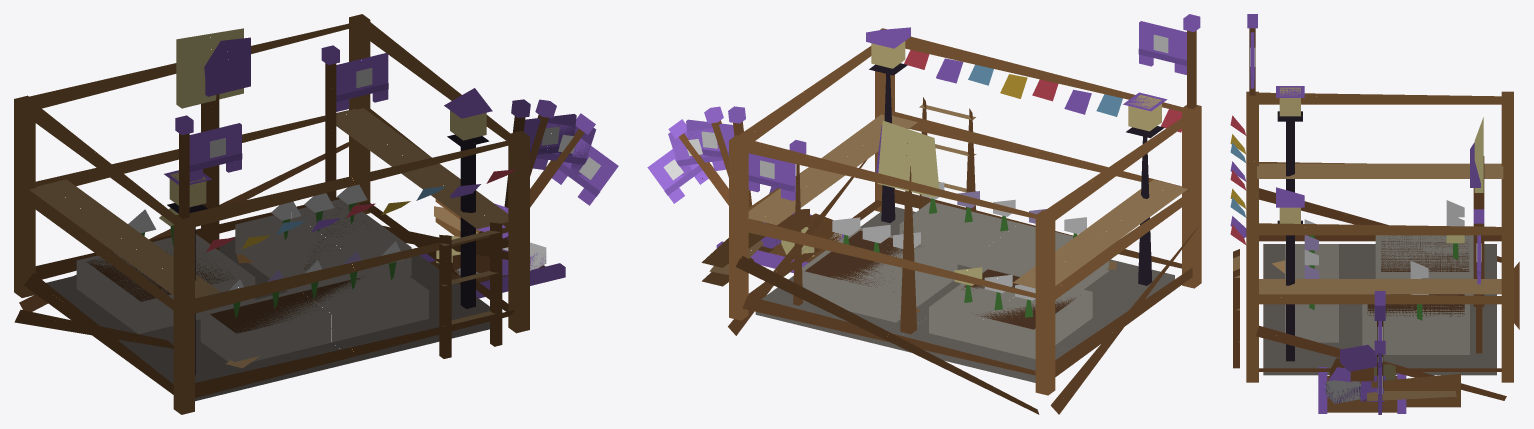
Rendered from moth-producer_lod1.glb.
3 renders of one model, left to right at view 1: azimuth 30°, elevation 25°; view 2: azimuth 150°, elevation 25°; view 3: azimuth 270°, elevation 25°, orthographic. The views are drawn at different scales.
Visible parts, largest first — view 1: scaffold-mesh, built-mesh, dismantle-50-mesh, dismantle-75-mesh, scaffold-banner, banner, dismantle-25-banner, flag-pole, dismantle-25-mesh, dismantle-75-banner, scaffold-flag-pole, dismantle-50-banner (+3 smaller); view 2: scaffold-mesh, dismantle-50-mesh, built-mesh, dismantle-75-mesh, scaffold-banner, banner, dismantle-25-banner, dismantle-50-banner, dismantle-75-banner, scaffold-flag-pole, flag-pole, dismantle-25-mesh (+2 smaller); view 3: scaffold-mesh, dismantle-50-mesh, built-mesh, dismantle-75-mesh, dismantle-25-mesh, flag-pole, scaffold-flag-pole, scaffold-banner.
Boxes of the visible parts, box(x1,y1,x2,y2) form: scaffold-mesh: box(14, 14, 529, 414); built-mesh: box(90, 28, 492, 384); dismantle-50-mesh: box(46, 184, 546, 396); dismantle-75-mesh: box(77, 118, 565, 401); scaffold-banner: box(189, 123, 242, 181); banner: box(336, 53, 388, 111); dismantle-25-banner: box(552, 138, 618, 205); flag-pole: box(321, 45, 339, 200); dismantle-25-mesh: box(76, 203, 565, 358); dismantle-75-banner: box(524, 114, 576, 156); scaffold-flag-pole: box(175, 115, 193, 218); dismantle-50-banner: box(533, 123, 596, 174); scaffold-mesh: box(701, 28, 1201, 414); dismantle-50-mesh: box(717, 187, 1174, 382); built-mesh: box(843, 27, 1167, 327); dismantle-75-mesh: box(716, 97, 1173, 382); scaffold-banner: box(1138, 21, 1186, 74); banner: box(748, 153, 795, 200); dismantle-25-banner: box(647, 144, 708, 203); dismantle-50-banner: box(668, 128, 725, 175); dismantle-75-banner: box(686, 119, 734, 158); scaffold-flag-pole: box(1183, 14, 1200, 108); flag-pole: box(789, 140, 806, 305); dismantle-25-mesh: box(717, 186, 1103, 337); scaffold-mesh: box(1230, 91, 1519, 407); dismantle-50-mesh: box(1263, 213, 1496, 413); built-mesh: box(1276, 86, 1484, 361); dismantle-75-mesh: box(1318, 198, 1484, 413); dismantle-25-mesh: box(1319, 274, 1408, 413); flag-pole: box(1473, 209, 1484, 353); scaffold-flag-pole: box(1247, 14, 1257, 95); scaffold-banner: box(1250, 32, 1255, 88).
Size of the model in its own units: 2.7 by 1.55 by 1.61.
